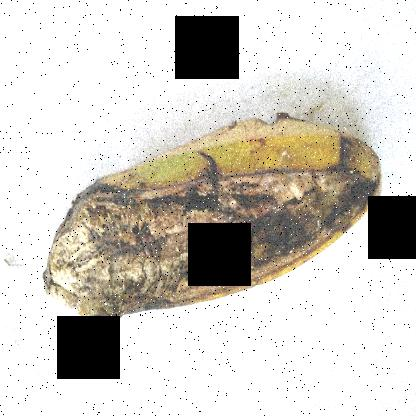rotten: (28, 92, 389, 349)
